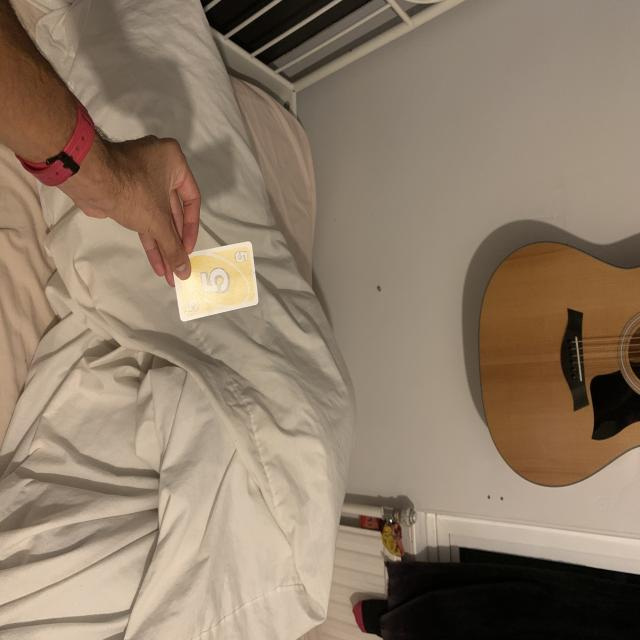lyellow-5: (232, 248, 250, 266)
